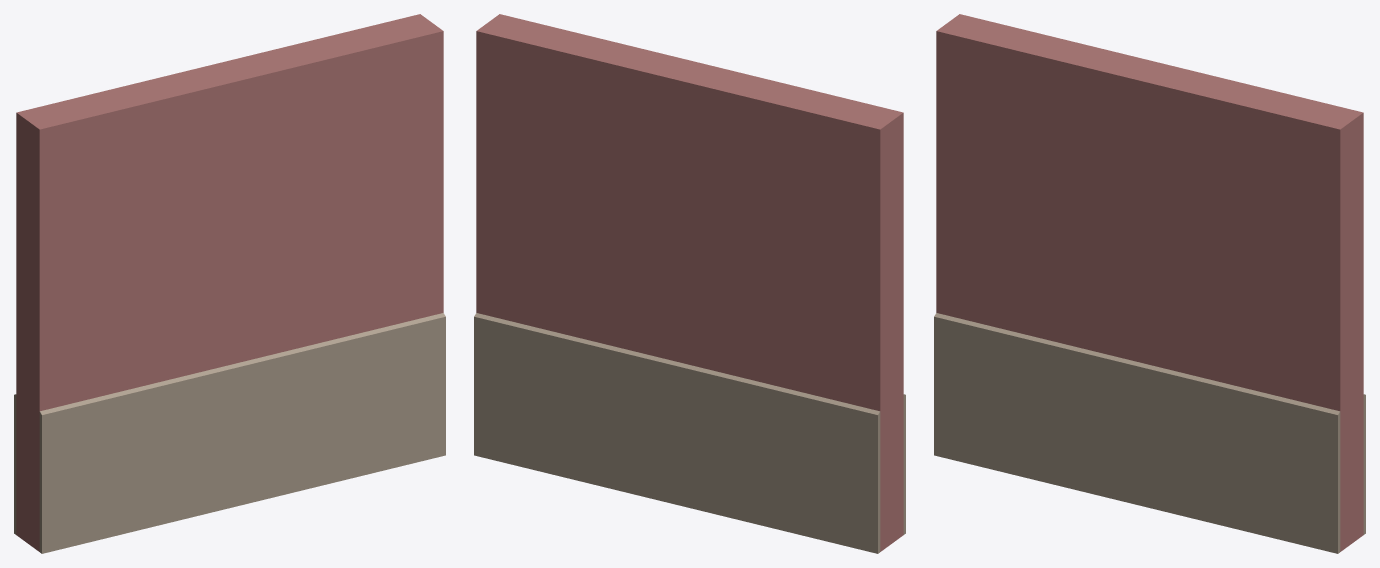
The model's file is wall_base.fbx.
3 renders of one model, left to right at view 1: azimuth 30°, elevation 25°; view 2: azimuth 150°, elevation 25°; view 3: azimuth 330°, elevation 25°, orthographic.
Visible parts, largest first — view 1: Cube; view 2: Cube; view 3: Cube.
Boxes of the visible parts, bbox=[...] form: Cube: bbox=[14, 14, 445, 553]; Cube: bbox=[474, 14, 905, 553]; Cube: bbox=[934, 14, 1365, 553].
Bounding box in the file's own units: 400 × 400 × 48.
